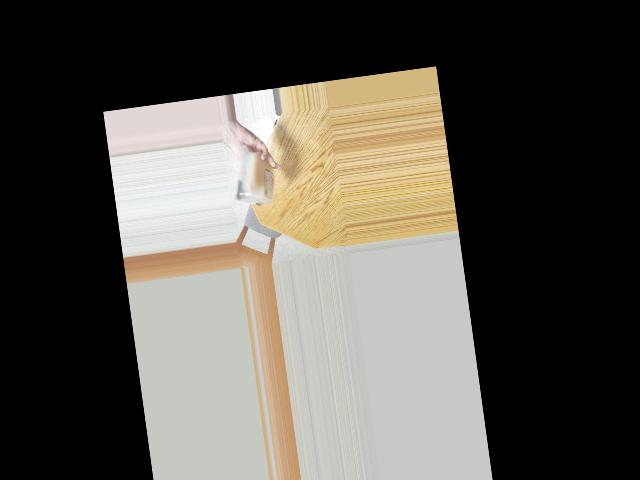cheese: (230, 147, 280, 210)
